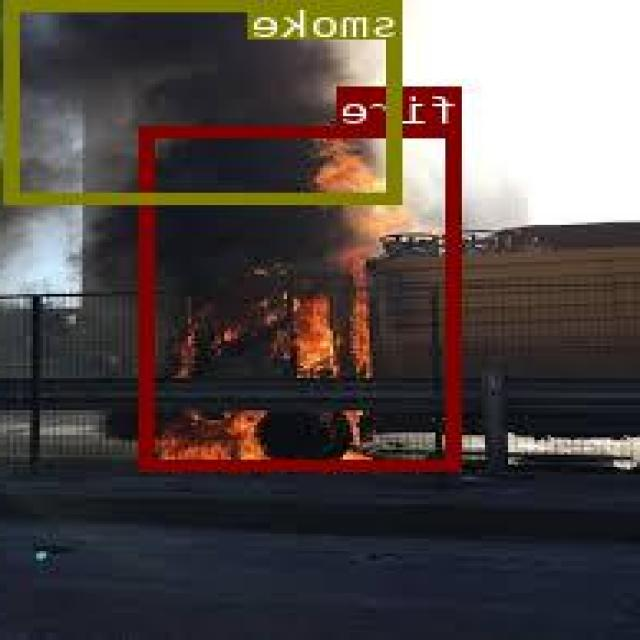fire: (143, 125, 463, 468)
smoke: (8, 0, 404, 200)
